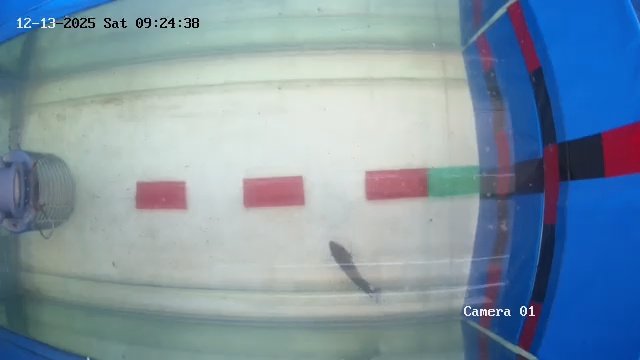fish: (327, 240, 375, 293)
